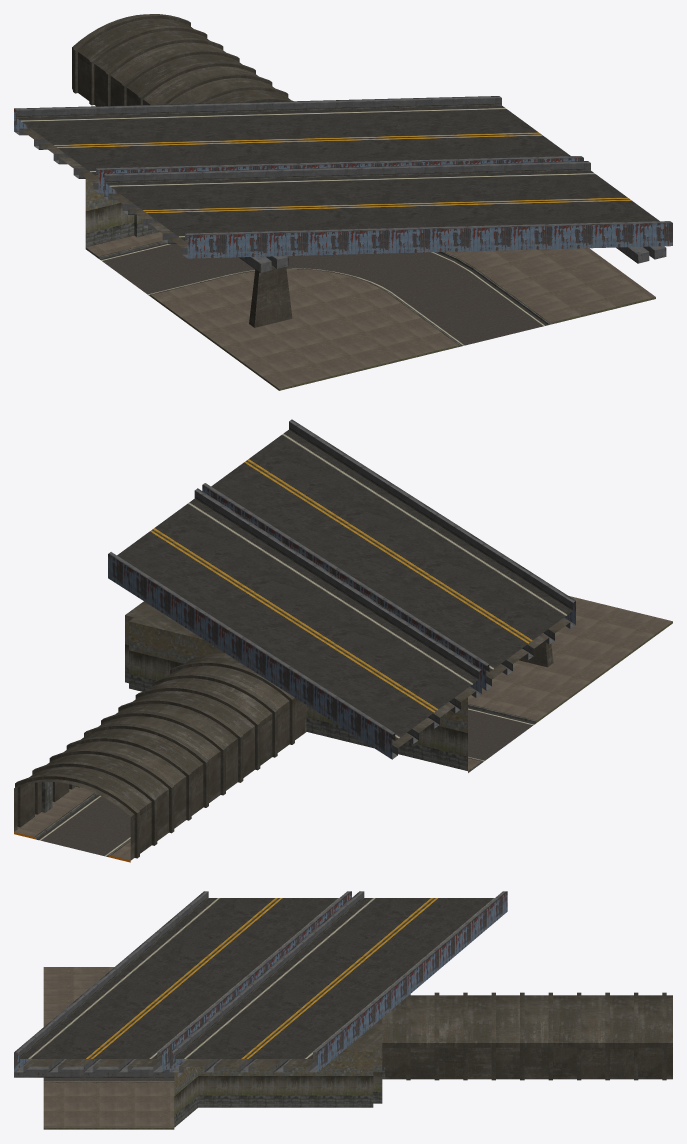
The picture shows the model from 3 angles, top to bottom: view 1: azimuth 30°, elevation 25°; view 2: azimuth 150°, elevation 25°; view 3: azimuth 270°, elevation 25°; orthographic projection. The views are drawn at different scales.
Parts seen in each view (by area): view 1: Material2 (×8); view 2: Material2 (×9); view 3: Material2 (×9).
Boxes of the visible parts, x1,y1,x2,y2 form: Material2 (×8): [14, 14, 672, 390]; Material2 (×9): [14, 419, 672, 860]; Material2 (×9): [14, 891, 672, 1129].
Size of the model in its own units: 1033 by 231 by 1788.
Materials: 11 (9 with a texture image).
